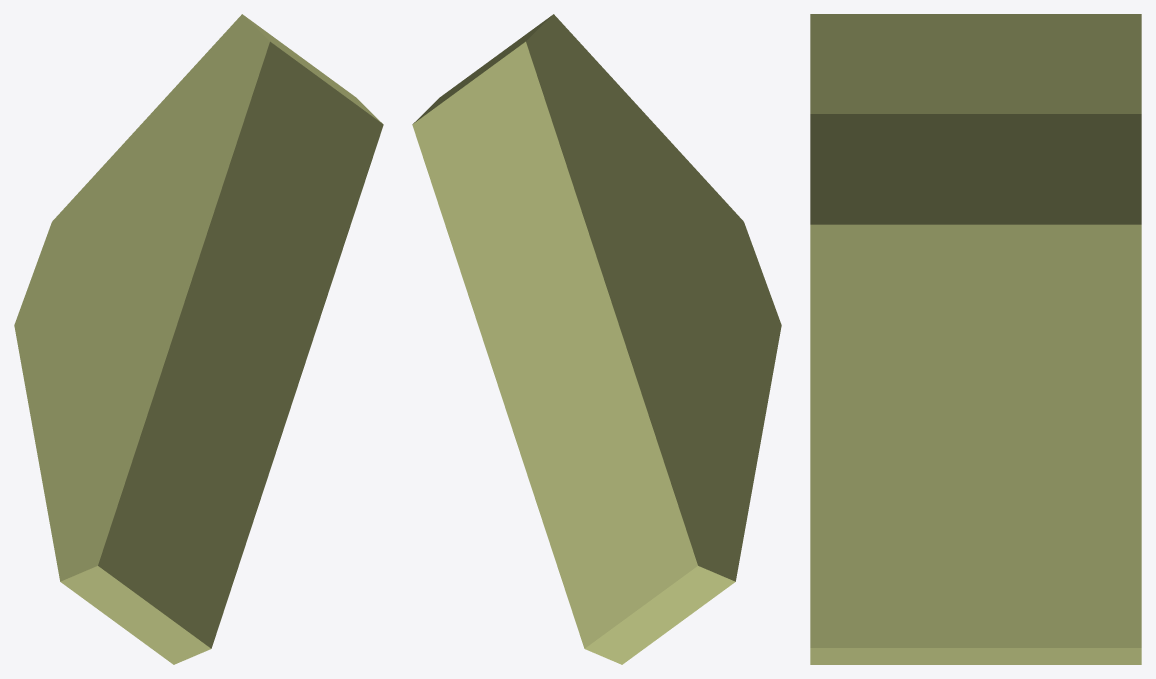
3 renders of one model, left to right at view 1: azimuth 30°, elevation 25°; view 2: azimuth 150°, elevation 25°; view 3: azimuth 270°, elevation 25°, orthographic. The views are drawn at different scales.
Visible parts, largest first — view 1: 0_0_1_3_1_1_3_2_3_2; view 2: 0_0_1_3_1_1_3_2_3_2; view 3: 0_0_1_3_1_1_3_2_3_2.
Part boxes in pixels (x1,y1,x2,y2): 0_0_1_3_1_1_3_2_3_2: (14,14,383,664); 0_0_1_3_1_1_3_2_3_2: (412,14,781,664); 0_0_1_3_1_1_3_2_3_2: (810,14,1141,664).
Size of the model in its own units: 7.8 by 15.25 by 6.
